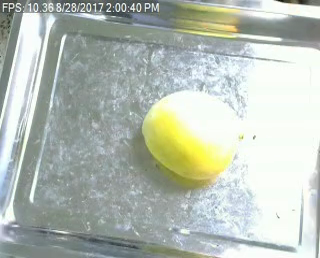Mango: (142, 91, 243, 180)
